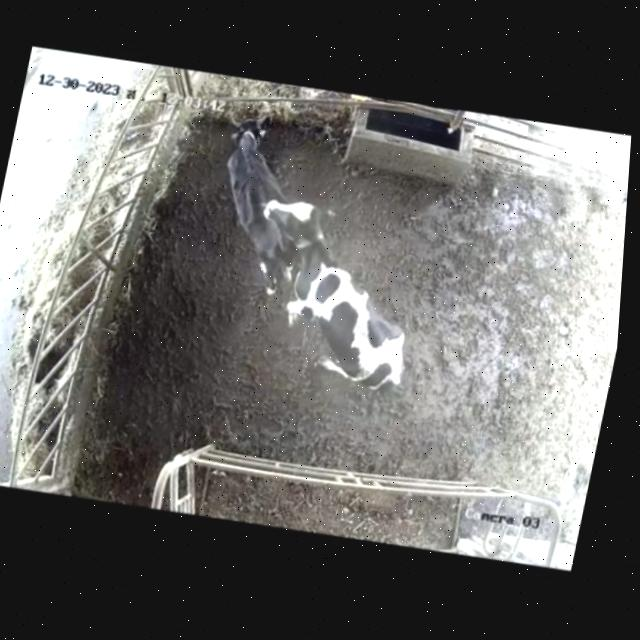ride: (213, 183, 455, 415)
stand: (188, 109, 327, 297)
